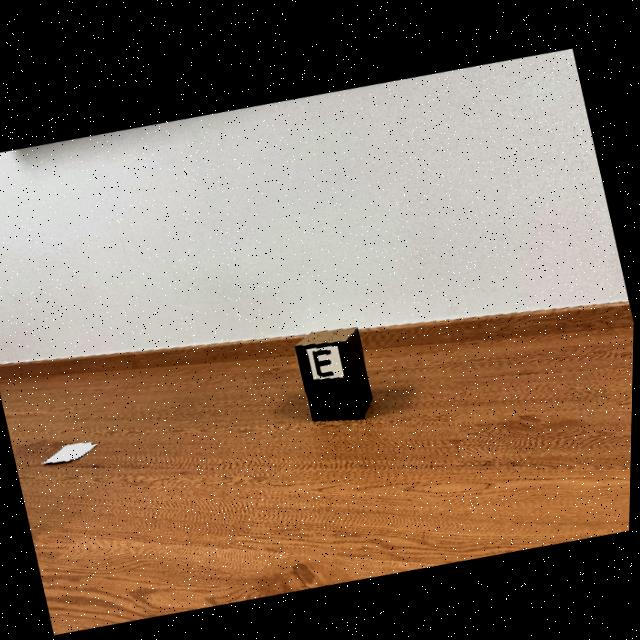E: (314, 344, 336, 372)
